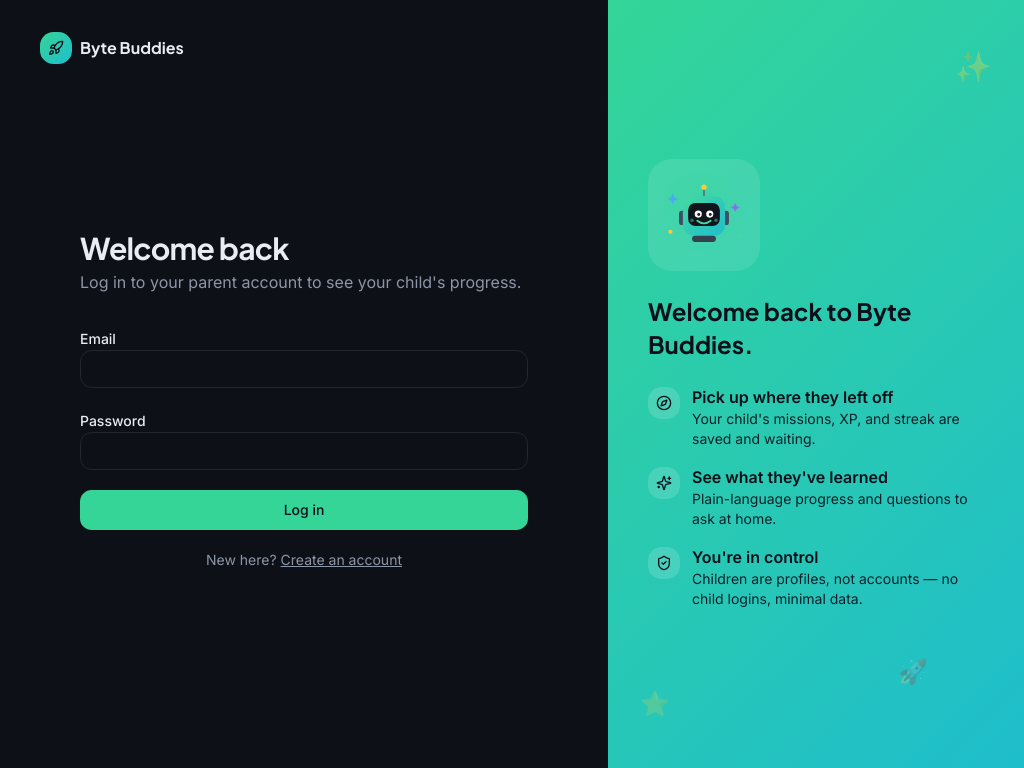
Test: LoginPage › recovers from a network failure instead of silently hanging
In the field labelled "Email": (304, 369) x1=80 y1=350 x2=528 y2=388, type "parent@example.com"
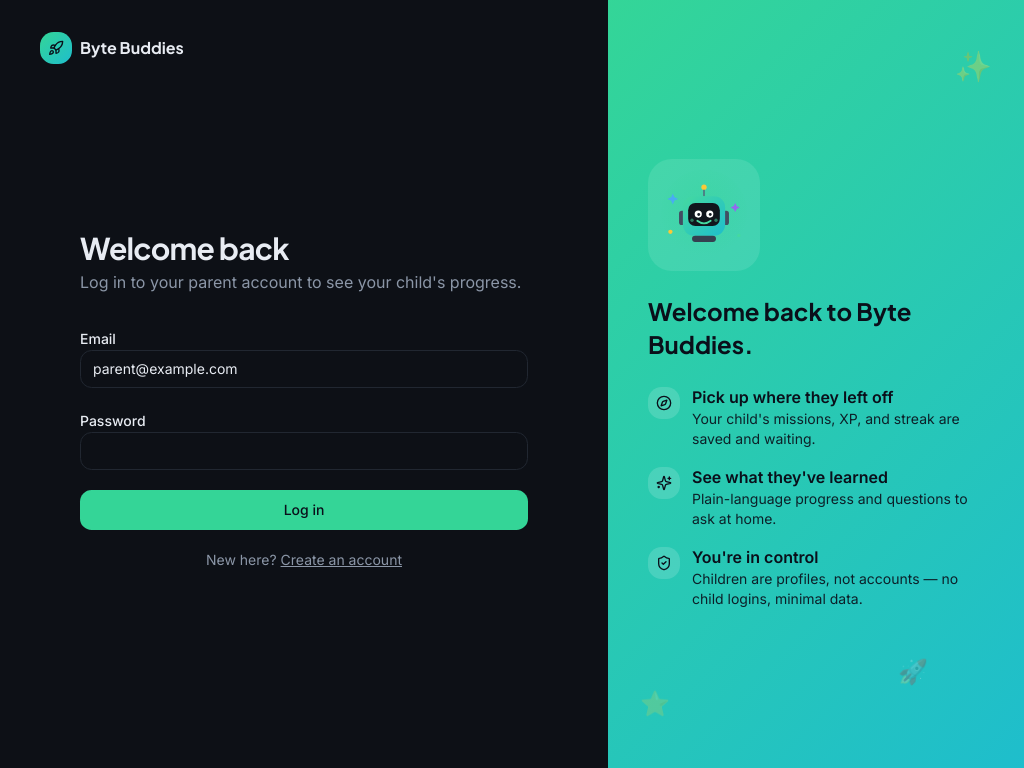
In the password field labelled "Password": (304, 451) x1=80 y1=432 x2=528 y2=470, type "supersecret"
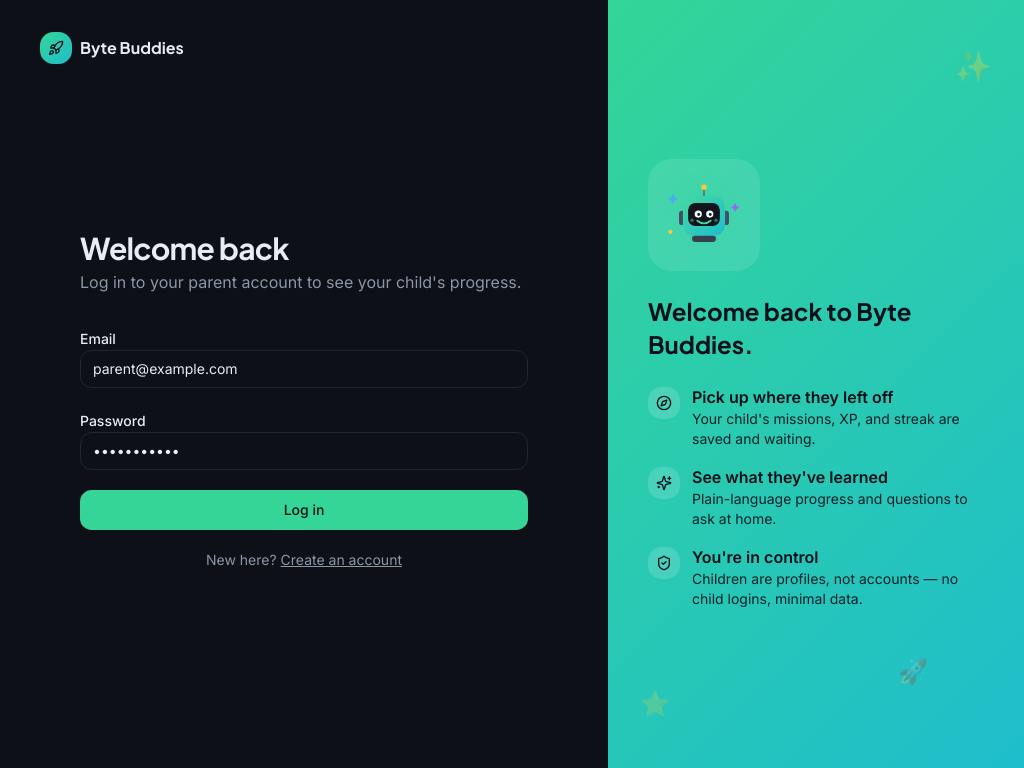
Click the button "Log in": (304, 510) x1=80 y1=490 x2=528 y2=530
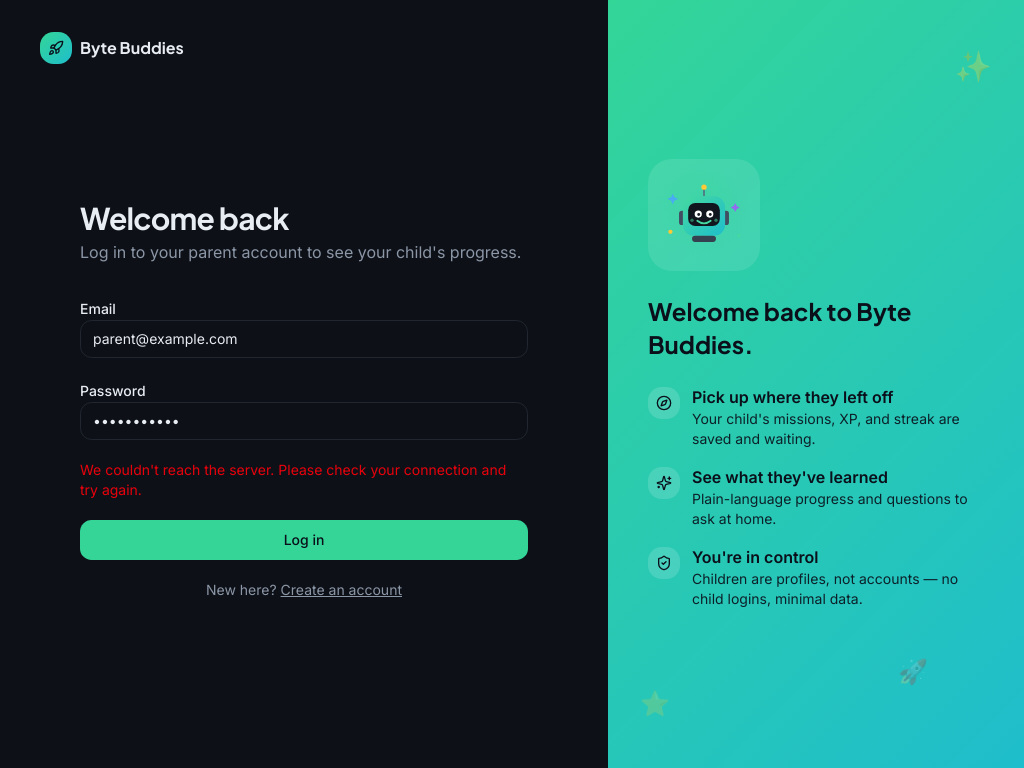
Expected: the button "Log in" is enabled, x1=80 y1=520 x2=528 y2=560
Now the message "We couldn't reach the server. Please check your connection and try again." is shown, box x1=80 y1=460 x2=528 y2=500
